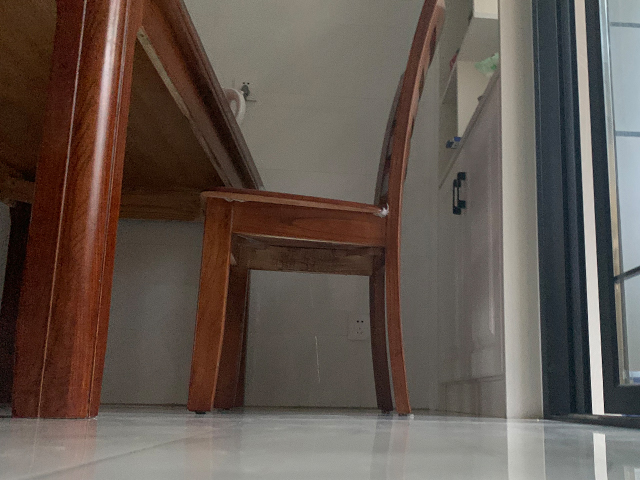cabinet: (427, 73, 527, 420)
stool: (184, 1, 446, 416)
table: (1, 1, 264, 418)
